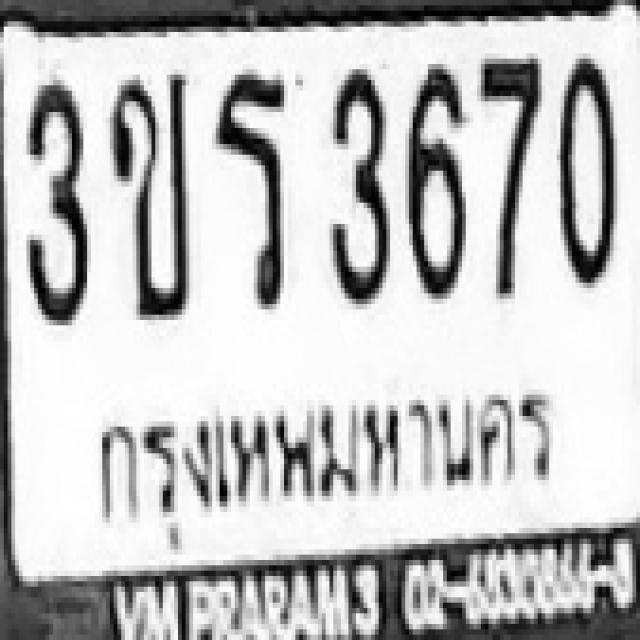0: (557, 56, 617, 285)
11KhorKhai: (104, 69, 188, 315)
3: (21, 75, 89, 320), (324, 64, 388, 299)
44RorRuea: (210, 69, 286, 304)
6: (405, 64, 466, 299)
7: (477, 53, 542, 299)
Bangkok: (81, 371, 564, 553)
